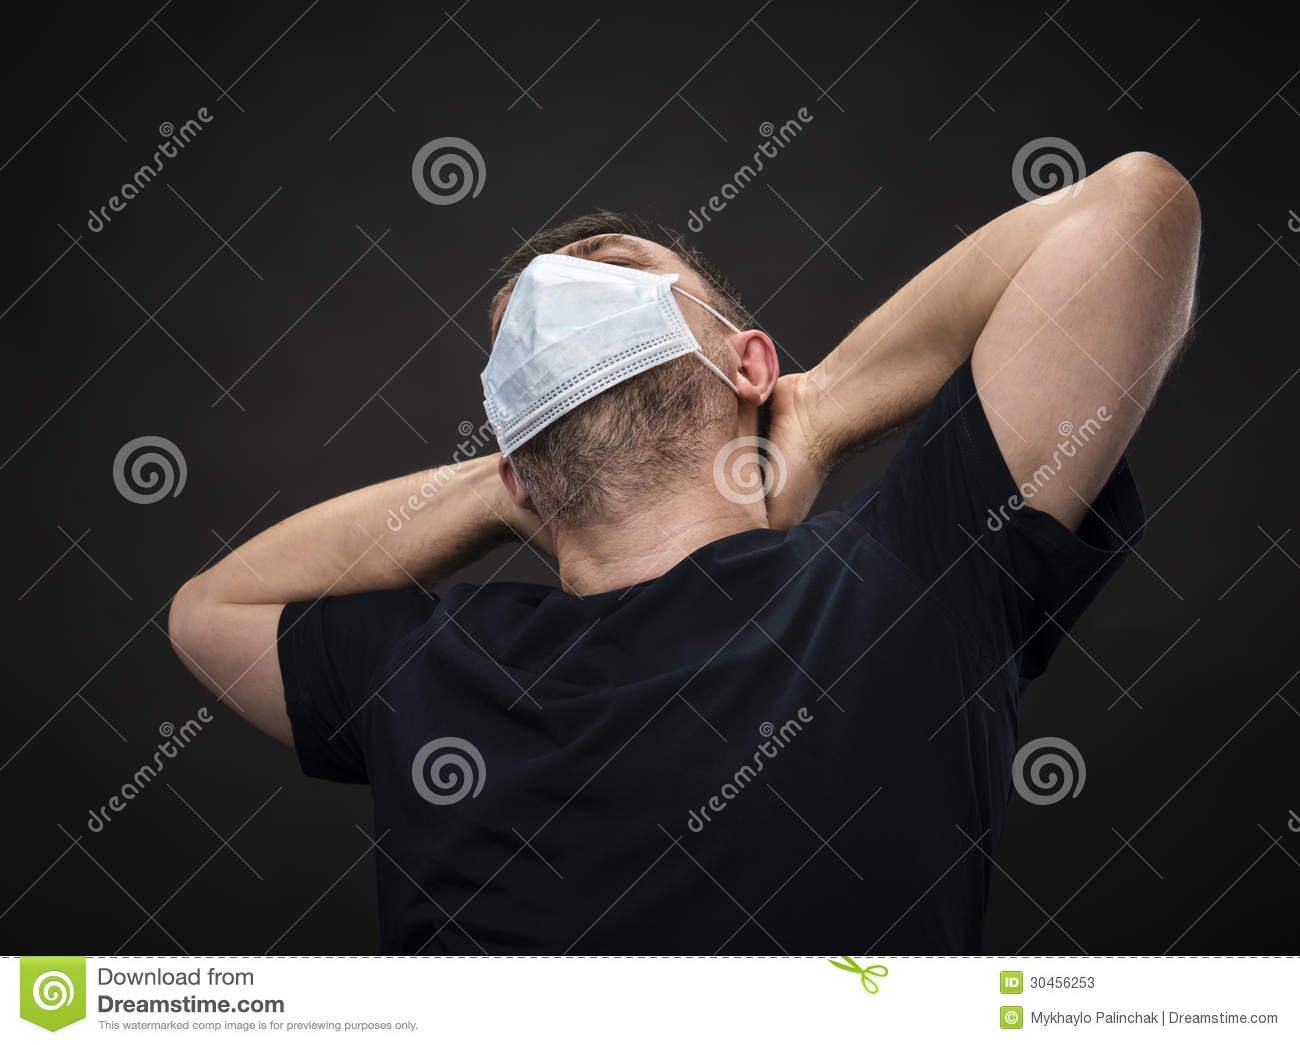mask: (480, 257, 700, 448)
